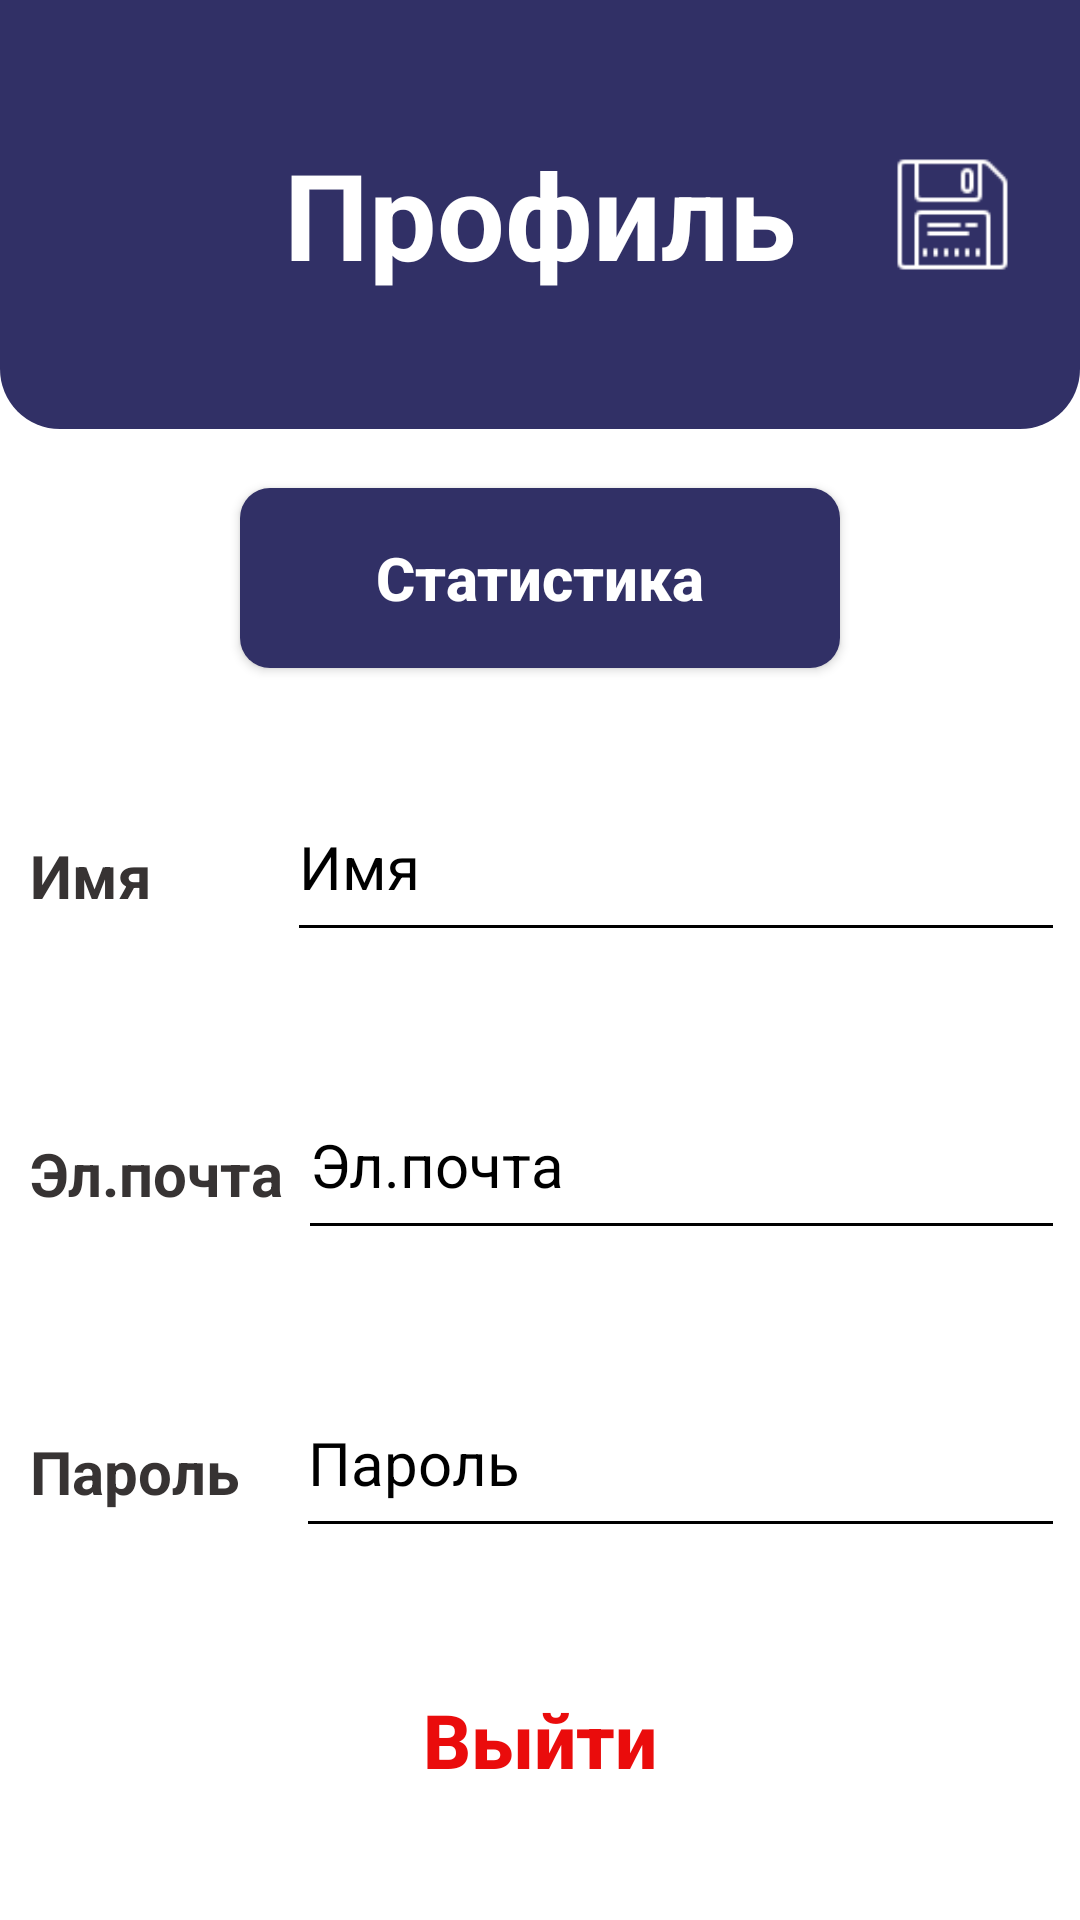

Named icons in this screenshot (1080x1920) and their centers, (x=x, y=y):
save: (x=952, y=214)
